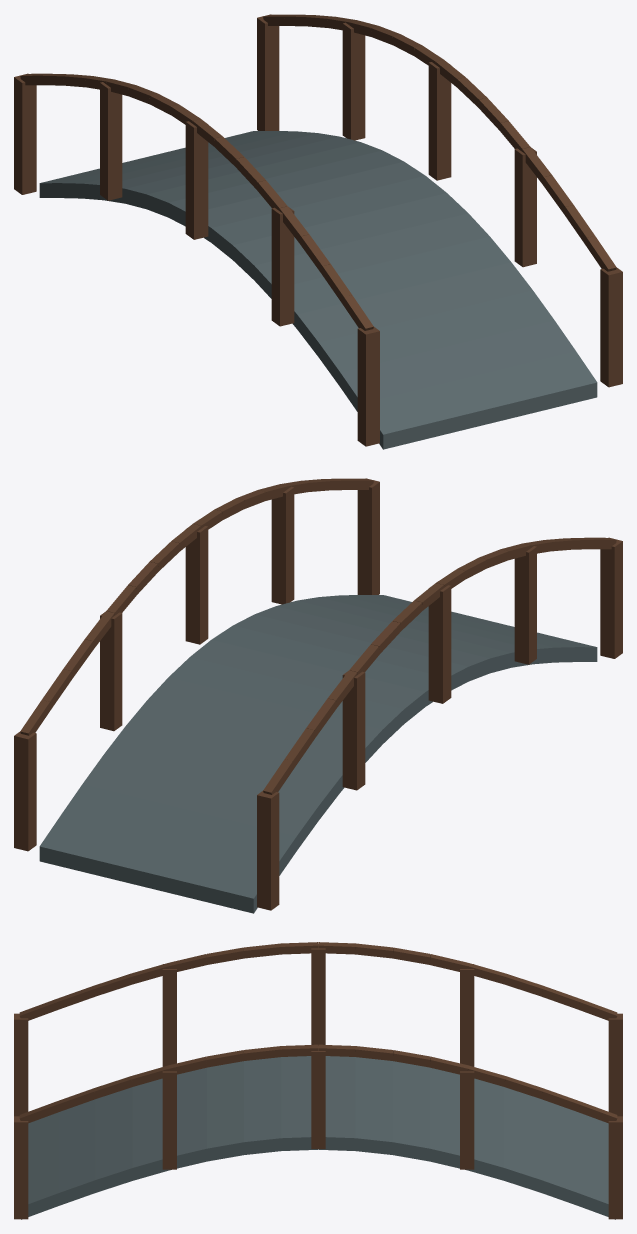
The model's file is PirateCove_ArchedBridge_Simple.glb.
The picture shows the model from 3 angles, top to bottom: view 1: azimuth 30°, elevation 25°; view 2: azimuth 150°, elevation 25°; view 3: azimuth 270°, elevation 25°; orthographic projection. The views are drawn at different scales.
Visible parts, largest first — view 1: PirateCove_ArchedBridge_Simple; view 2: PirateCove_ArchedBridge_Simple; view 3: PirateCove_ArchedBridge_Simple.
Part boxes in pixels (x1=…): PirateCove_ArchedBridge_Simple: x1=14, y1=14, x2=622, y2=449; PirateCove_ArchedBridge_Simple: x1=14, y1=478, x2=622, y2=913; PirateCove_ArchedBridge_Simple: x1=14, y1=942, x2=622, y2=1219.
Size of the model in its own units: 2.16 by 1.66 by 5.12.
